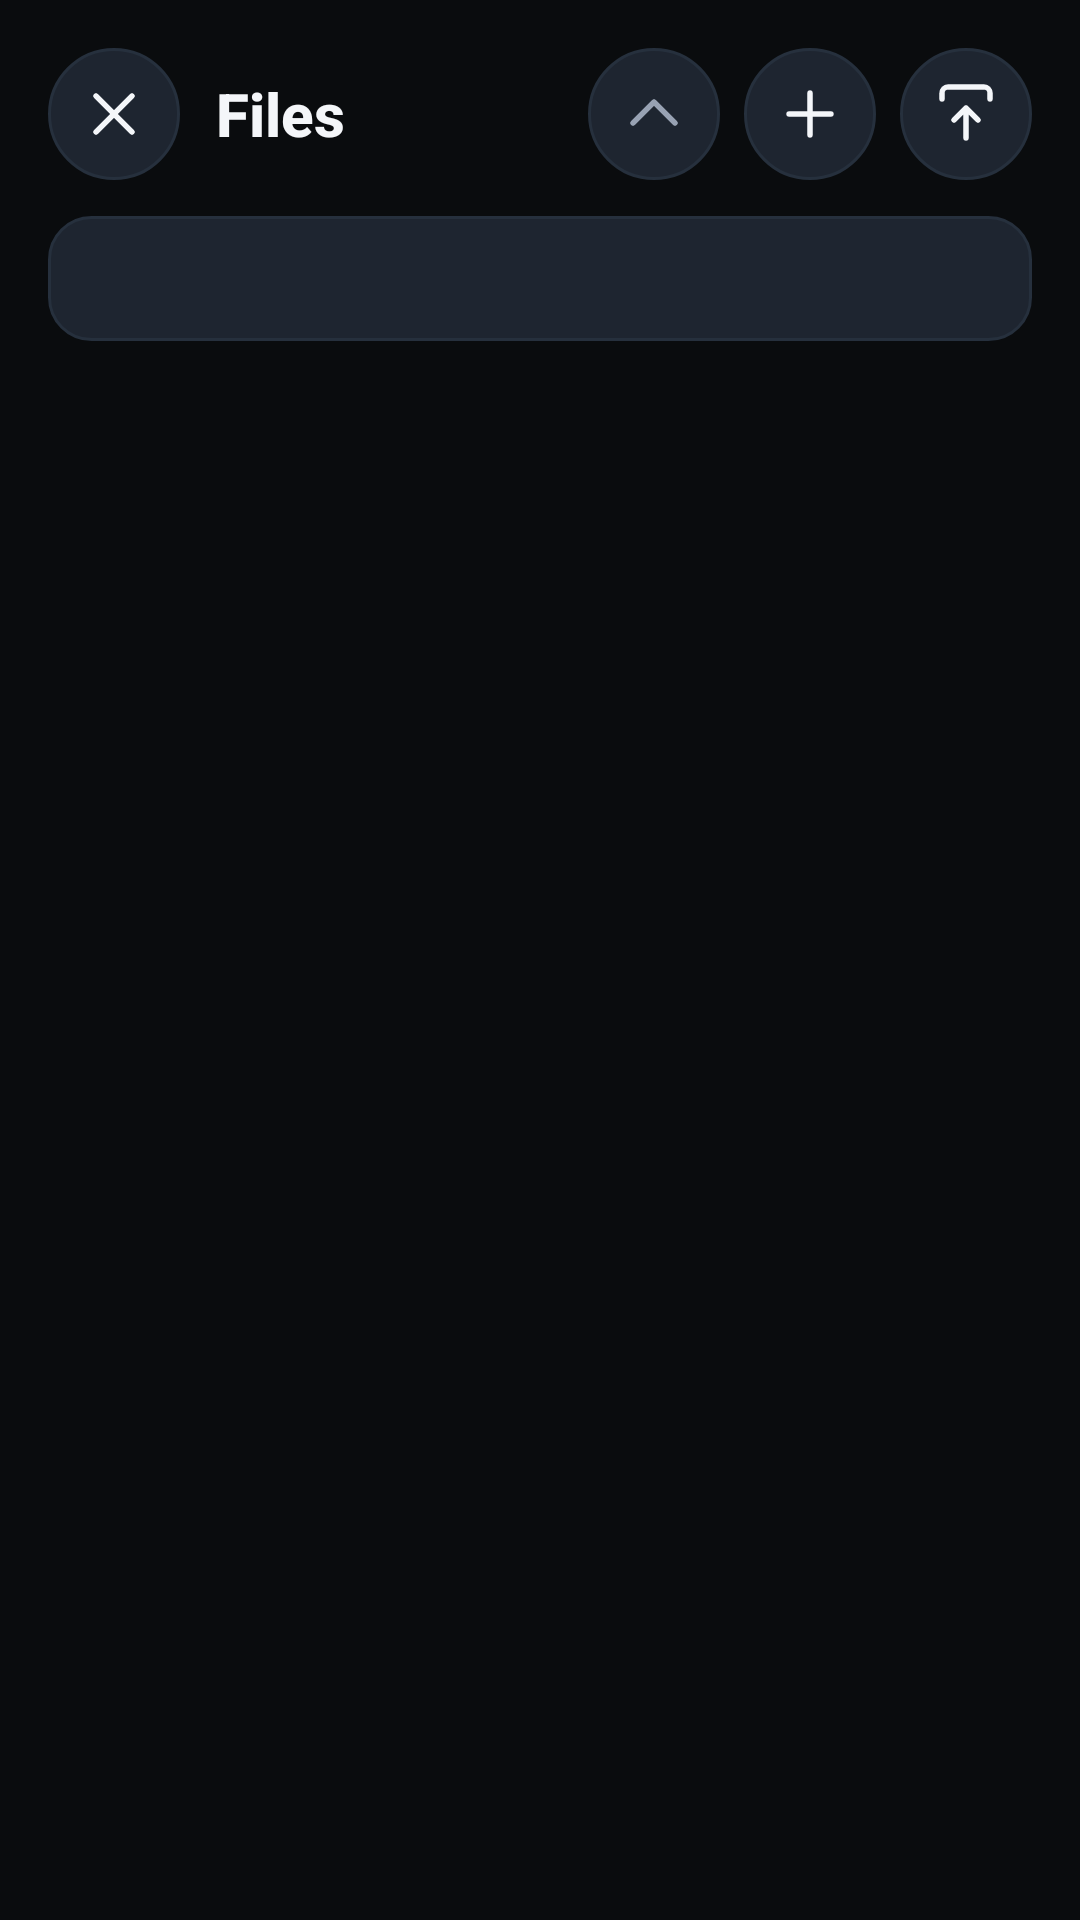

Named icons in this screenshot (1080×1920) and their bounding boxes, (x1, y1, x2, y2):
Cancel: (48, 48, 180, 180)
